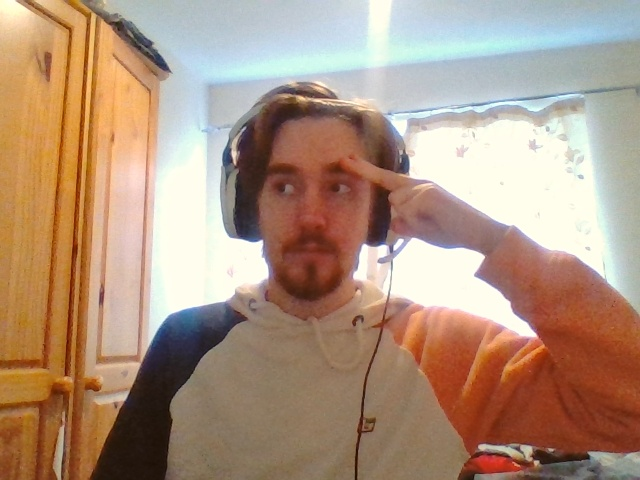name: (340, 154, 444, 241)
